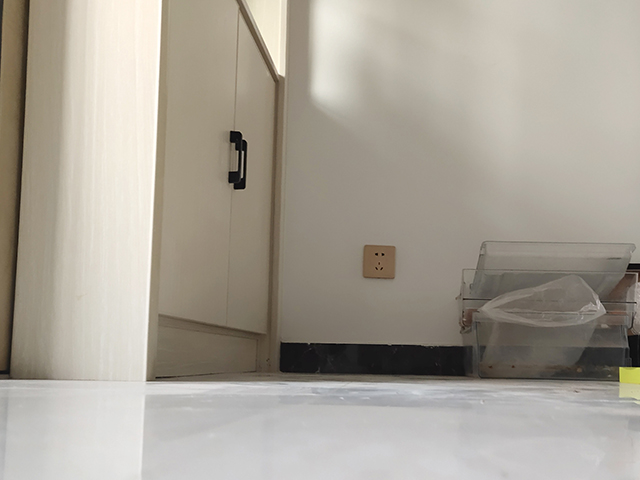cabinet: (1, 1, 290, 386)
